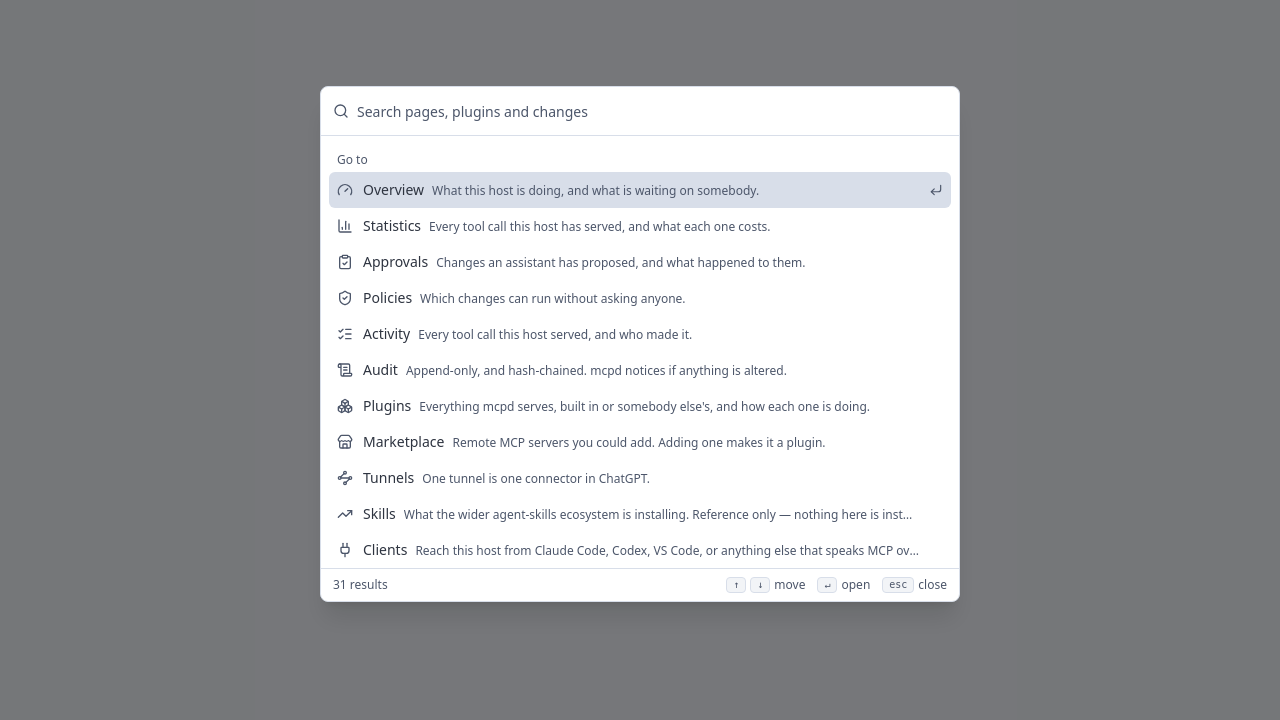
it: the command palette › still finds a change by the machine's name for it
The image size is (1280, 720).
In the dropdown: [652, 111] box [357, 87, 947, 135], type "device.reboot"
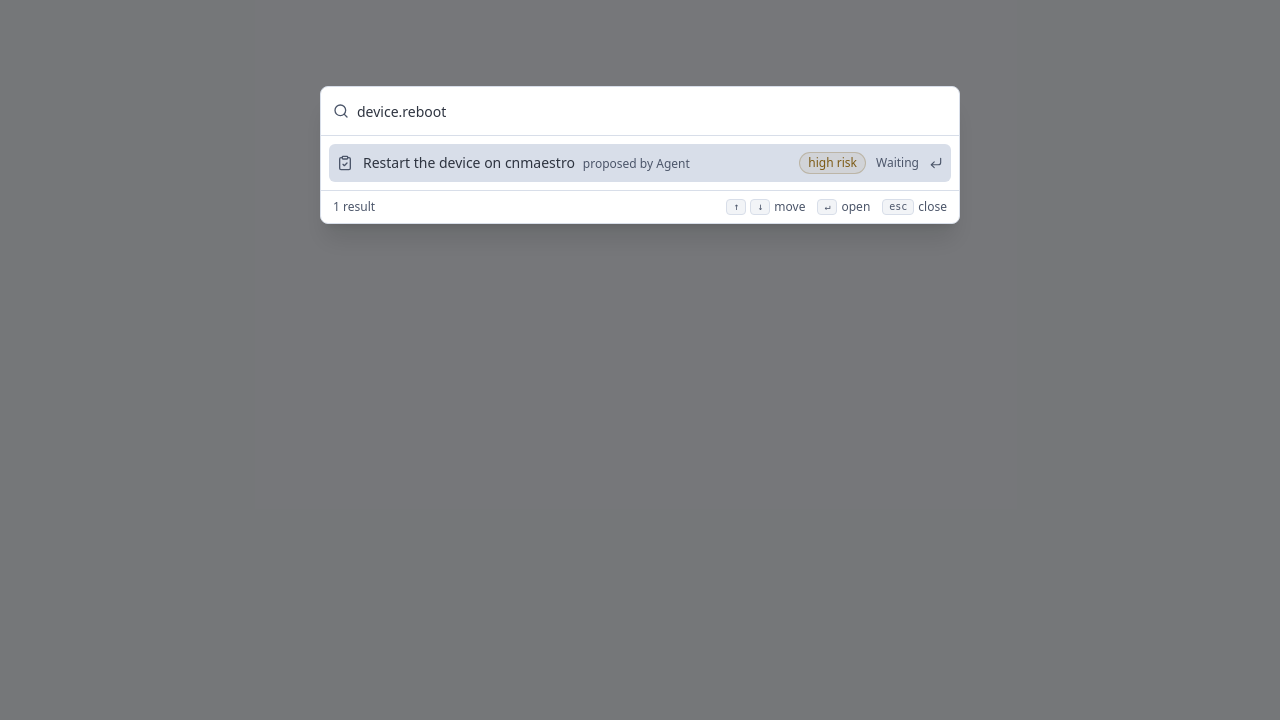
Expected: the option "Restart the device on cnmaestro" is shown, [329, 144, 951, 182]
